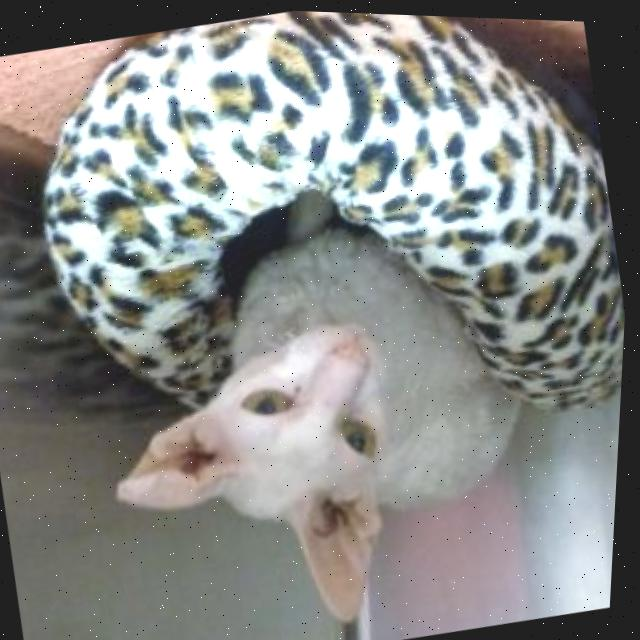Cornish Rex: (51, 142, 581, 640)
